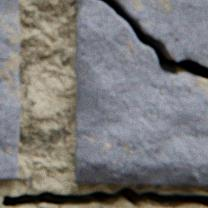brick: (0, 0, 20, 177)
broken_brick: (74, 0, 207, 183), (114, 0, 207, 66)
crack: (99, 0, 207, 79), (0, 185, 207, 207)
